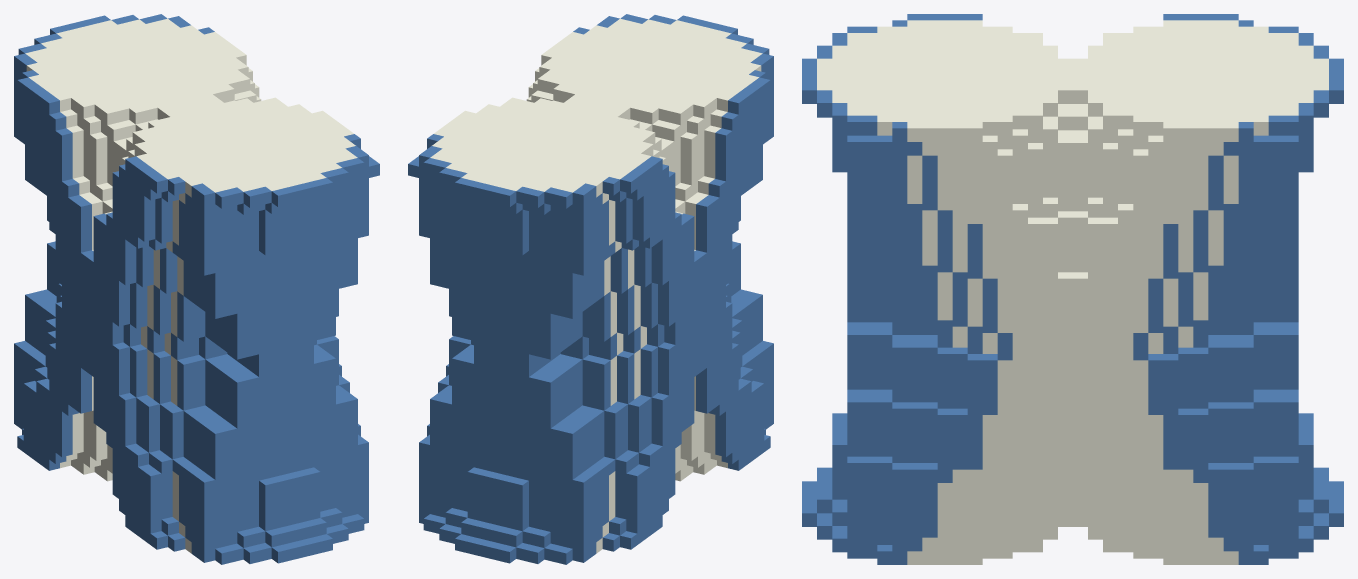
Rendered from BlueTorso.obj.
3 renders of one model, left to right at view 1: azimuth 30°, elevation 25°; view 2: azimuth 150°, elevation 25°; view 3: azimuth 270°, elevation 25°, orthographic. The views are drawn at different scales.
Bounding box in the file's own units: 18 × 32 × 36.
